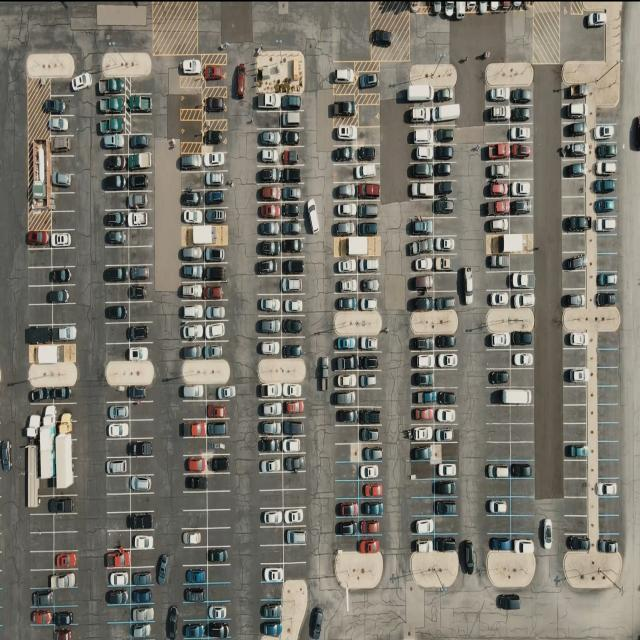space-empty: (105, 324, 130, 346), (28, 304, 53, 326), (560, 196, 588, 215), (128, 113, 154, 133), (104, 282, 130, 302), (562, 234, 588, 254), (484, 348, 510, 368), (104, 190, 130, 210), (510, 496, 536, 516), (28, 285, 54, 305), (130, 302, 153, 324), (180, 120, 203, 142), (562, 347, 586, 368), (106, 528, 130, 549), (53, 304, 77, 325), (104, 438, 129, 458), (562, 176, 587, 196), (595, 235, 620, 255), (29, 531, 54, 551), (563, 404, 588, 424), (410, 495, 435, 515), (434, 216, 459, 236), (485, 441, 510, 461), (510, 479, 536, 498), (128, 228, 154, 247), (182, 510, 208, 529), (408, 200, 434, 219), (485, 479, 511, 498), (181, 491, 207, 510), (180, 400, 206, 419), (181, 438, 207, 457), (254, 110, 280, 129), (487, 406, 513, 425), (356, 105, 379, 126), (28, 267, 52, 287), (563, 385, 587, 405), (256, 275, 280, 295), (563, 479, 587, 499), (56, 530, 80, 550), (52, 210, 76, 230), (207, 490, 231, 510), (208, 510, 232, 530), (563, 496, 587, 516), (510, 406, 534, 426), (561, 270, 586, 289), (105, 493, 130, 512), (28, 249, 53, 268), (563, 459, 588, 478), (182, 547, 207, 566), (335, 461, 360, 480), (30, 552, 55, 571), (511, 368, 536, 387), (510, 424, 536, 442), (509, 252, 535, 270), (182, 602, 208, 620), (484, 423, 510, 441), (486, 272, 512, 290), (261, 526, 284, 546), (261, 545, 284, 565), (30, 568, 53, 588), (27, 210, 50, 230), (130, 400, 153, 420), (106, 512, 129, 532), (283, 562, 306, 582), (104, 247, 128, 266), (106, 476, 130, 495), (131, 419, 155, 438), (282, 543, 306, 562), (411, 460, 435, 479), (484, 125, 508, 144), (130, 493, 154, 512), (208, 563, 232, 582), (335, 424, 359, 443), (563, 423, 587, 442), (596, 348, 620, 367), (511, 442, 535, 461), (30, 515, 54, 534), (355, 127, 379, 146), (410, 479, 434, 498), (260, 489, 284, 508), (282, 489, 306, 508), (130, 456, 154, 475), (596, 255, 620, 274), (436, 370, 460, 389), (334, 480, 358, 499), (512, 516, 536, 535), (208, 528, 232, 547), (179, 172, 204, 190), (107, 604, 132, 622), (131, 550, 156, 568), (105, 344, 130, 362), (127, 76, 153, 93), (597, 404, 619, 424), (598, 422, 620, 442), (596, 384, 618, 404), (53, 248, 76, 267), (596, 366, 619, 385), (207, 474, 230, 493), (207, 583, 230, 602), (55, 588, 79, 606), (436, 516, 460, 534), (262, 584, 286, 602), (282, 471, 306, 489), (130, 246, 154, 264), (509, 162, 533, 180), (564, 516, 588, 534), (260, 472, 284, 490), (510, 216, 534, 234), (488, 516, 512, 534), (596, 332, 620, 350), (438, 443, 459, 463), (53, 157, 75, 176), (358, 388, 380, 407), (336, 443, 358, 462), (597, 442, 619, 461), (52, 192, 75, 210), (56, 515, 79, 533), (105, 384, 128, 402), (434, 274, 457, 292), (51, 77, 74, 95), (107, 623, 131, 640), (598, 459, 619, 478), (597, 498, 619, 516), (598, 516, 620, 534), (596, 106, 618, 124), (334, 165, 357, 182), (336, 535, 358, 552), (180, 95, 202, 111), (30, 626, 54, 640)
space-occupied: (491, 384, 534, 405), (432, 102, 460, 124), (561, 213, 589, 234), (590, 176, 618, 197), (98, 114, 127, 134), (333, 64, 357, 88), (407, 104, 433, 126), (333, 98, 359, 120), (100, 134, 128, 154), (98, 96, 126, 116), (560, 120, 588, 140), (127, 94, 153, 115), (561, 287, 587, 308), (408, 179, 434, 200), (27, 325, 54, 345), (561, 102, 588, 122), (49, 93, 74, 114), (48, 116, 74, 136), (485, 86, 511, 106), (485, 458, 511, 478), (562, 140, 588, 160), (26, 230, 52, 250), (510, 270, 536, 290), (592, 215, 618, 235), (484, 178, 510, 198), (182, 620, 208, 640), (410, 442, 436, 462), (408, 236, 434, 256), (334, 352, 360, 372), (28, 382, 54, 402), (99, 76, 126, 95), (484, 214, 511, 233), (180, 56, 202, 79), (262, 562, 286, 583), (50, 135, 74, 156), (128, 153, 152, 174), (258, 338, 282, 359), (129, 134, 154, 154), (562, 252, 587, 272), (105, 304, 130, 324), (103, 229, 128, 249), (103, 265, 128, 285), (333, 124, 358, 144), (484, 104, 509, 124), (180, 418, 205, 438), (256, 238, 281, 258), (104, 456, 129, 476), (280, 275, 305, 295), (256, 294, 281, 314), (183, 527, 208, 547), (180, 301, 205, 321), (179, 281, 204, 301), (411, 386, 436, 406), (511, 288, 536, 308), (104, 419, 130, 438), (180, 382, 206, 401), (560, 160, 586, 179), (410, 516, 436, 535), (100, 153, 126, 172), (408, 163, 434, 182), (255, 258, 281, 277), (485, 332, 511, 351), (408, 216, 434, 235), (334, 371, 360, 390), (410, 351, 436, 370), (486, 288, 512, 307), (411, 368, 437, 387), (406, 86, 432, 105), (333, 388, 360, 406), (484, 199, 511, 217), (130, 321, 152, 343), (180, 320, 203, 341), (130, 474, 154, 494), (512, 348, 536, 368), (178, 151, 202, 171), (511, 459, 535, 479), (204, 151, 228, 171), (184, 564, 208, 584), (356, 181, 380, 201), (52, 267, 76, 287), (280, 296, 304, 316), (258, 316, 282, 336), (280, 257, 304, 277), (105, 400, 129, 420), (258, 202, 282, 222), (434, 290, 458, 310), (487, 495, 511, 515), (410, 291, 434, 311), (131, 512, 155, 532), (204, 64, 228, 84), (335, 274, 359, 294), (409, 126, 433, 146), (107, 567, 131, 587), (409, 272, 433, 292), (563, 331, 588, 350), (129, 266, 154, 285), (128, 209, 153, 228), (55, 606, 80, 625), (103, 209, 128, 228), (509, 141, 534, 160), (203, 129, 228, 148), (484, 142, 509, 161), (335, 407, 360, 426), (179, 264, 204, 283), (487, 368, 512, 387), (180, 207, 205, 226), (409, 424, 434, 443), (259, 417, 284, 436), (103, 173, 129, 191), (592, 198, 618, 216), (560, 84, 586, 102), (357, 72, 379, 93), (204, 320, 226, 341), (281, 338, 303, 359), (52, 173, 75, 193), (130, 282, 153, 302), (52, 229, 75, 249), (281, 316, 304, 336), (435, 199, 458, 219), (355, 144, 378, 164), (333, 143, 356, 163), (279, 146, 302, 166), (510, 178, 533, 198), (356, 201, 379, 221), (206, 454, 229, 474), (359, 444, 382, 464), (131, 439, 154, 459), (595, 288, 618, 308), (282, 397, 305, 417), (204, 281, 227, 301), (206, 384, 233, 401), (261, 509, 285, 528), (334, 181, 358, 200), (563, 366, 587, 385), (106, 550, 130, 569), (564, 442, 588, 461), (592, 124, 616, 143), (204, 170, 228, 189), (256, 166, 280, 185), (436, 350, 460, 369), (131, 530, 155, 549), (281, 237, 305, 256), (31, 608, 55, 627), (258, 146, 282, 165), (355, 163, 379, 182), (53, 495, 77, 514), (182, 473, 206, 492), (336, 497, 360, 516), (434, 479, 458, 498), (260, 454, 284, 473), (54, 323, 78, 342), (565, 533, 589, 552), (334, 201, 358, 220), (208, 621, 232, 640), (358, 481, 382, 500), (52, 284, 76, 303), (260, 398, 284, 417), (357, 534, 381, 553), (486, 161, 510, 180), (258, 219, 283, 237), (509, 198, 534, 216), (128, 173, 153, 191), (257, 130, 282, 148), (335, 292, 360, 310), (488, 534, 513, 552), (597, 534, 619, 554), (208, 600, 230, 620), (132, 566, 154, 586), (261, 620, 283, 640), (511, 88, 534, 107), (30, 589, 53, 608), (55, 568, 78, 587), (56, 551, 79, 570), (205, 188, 228, 207), (510, 125, 533, 144), (283, 526, 306, 545), (434, 255, 457, 274), (262, 600, 285, 619), (281, 453, 304, 472), (358, 424, 381, 443), (129, 190, 152, 209), (207, 402, 230, 421), (280, 201, 303, 220), (180, 189, 204, 207), (434, 236, 458, 254), (335, 336, 359, 354), (511, 332, 535, 350), (358, 462, 382, 480), (258, 184, 282, 202), (254, 94, 278, 112), (204, 98, 228, 116), (358, 518, 382, 536), (594, 142, 618, 160), (411, 407, 435, 425), (259, 437, 283, 455), (358, 498, 382, 516), (281, 437, 305, 455), (409, 254, 433, 272), (335, 258, 359, 276), (203, 244, 227, 262), (180, 245, 204, 263), (486, 254, 510, 272), (202, 342, 226, 360), (409, 145, 434, 162), (205, 301, 226, 321), (208, 547, 230, 566), (283, 508, 305, 527), (358, 275, 380, 294), (130, 343, 152, 362), (280, 129, 302, 148), (436, 407, 458, 426), (510, 106, 533, 124), (182, 456, 205, 474), (596, 272, 619, 290), (336, 518, 359, 536), (357, 408, 380, 426), (435, 460, 458, 478), (206, 419, 229, 437), (204, 208, 227, 226), (184, 585, 207, 603), (281, 218, 304, 236), (434, 87, 457, 105), (204, 264, 227, 282), (180, 342, 203, 360), (594, 161, 618, 178), (107, 588, 131, 605), (334, 218, 358, 235), (435, 162, 456, 181), (437, 387, 458, 406), (435, 144, 457, 162), (434, 180, 456, 198), (280, 110, 302, 128), (597, 480, 619, 498), (436, 497, 458, 515), (133, 587, 155, 605), (282, 418, 304, 436), (356, 295, 378, 313), (436, 424, 458, 442), (434, 127, 457, 144), (435, 335, 458, 352), (280, 94, 303, 111), (410, 336, 434, 352), (258, 383, 282, 399), (358, 371, 378, 390), (357, 256, 378, 274), (357, 353, 378, 371), (356, 219, 378, 236), (282, 382, 304, 399), (280, 184, 302, 201), (131, 623, 153, 640), (132, 604, 154, 621), (129, 386, 152, 402), (357, 337, 378, 354), (281, 167, 302, 184), (56, 624, 78, 640), (54, 387, 74, 404)
